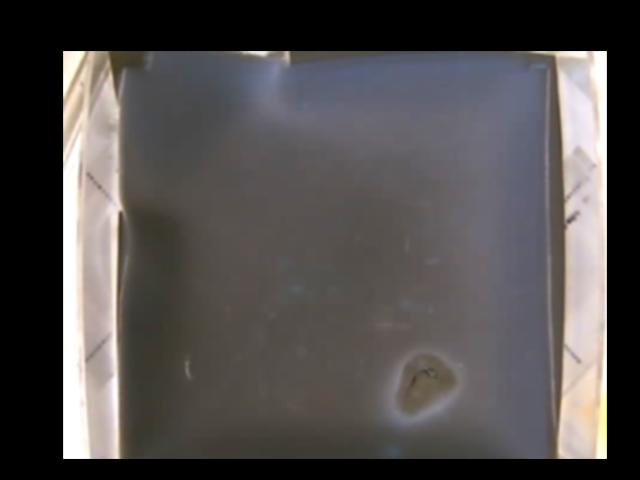Pebble: (393, 350, 456, 417)
